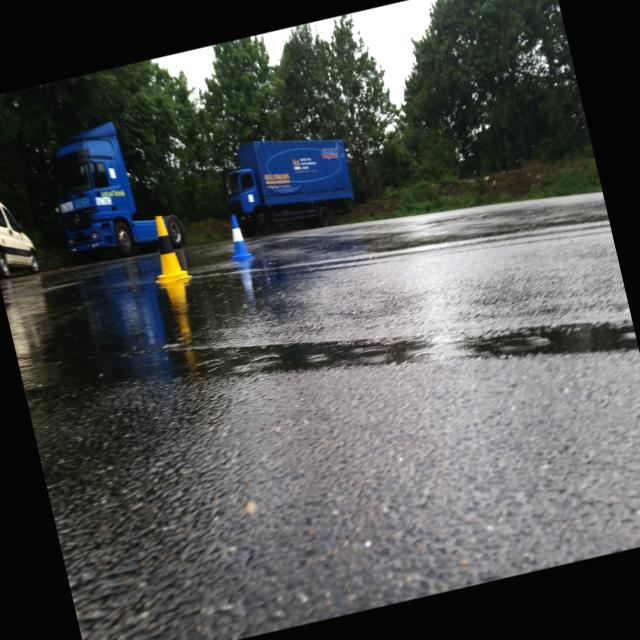blue_cone: (218, 211, 255, 263)
yellow_cone: (140, 210, 192, 284)
